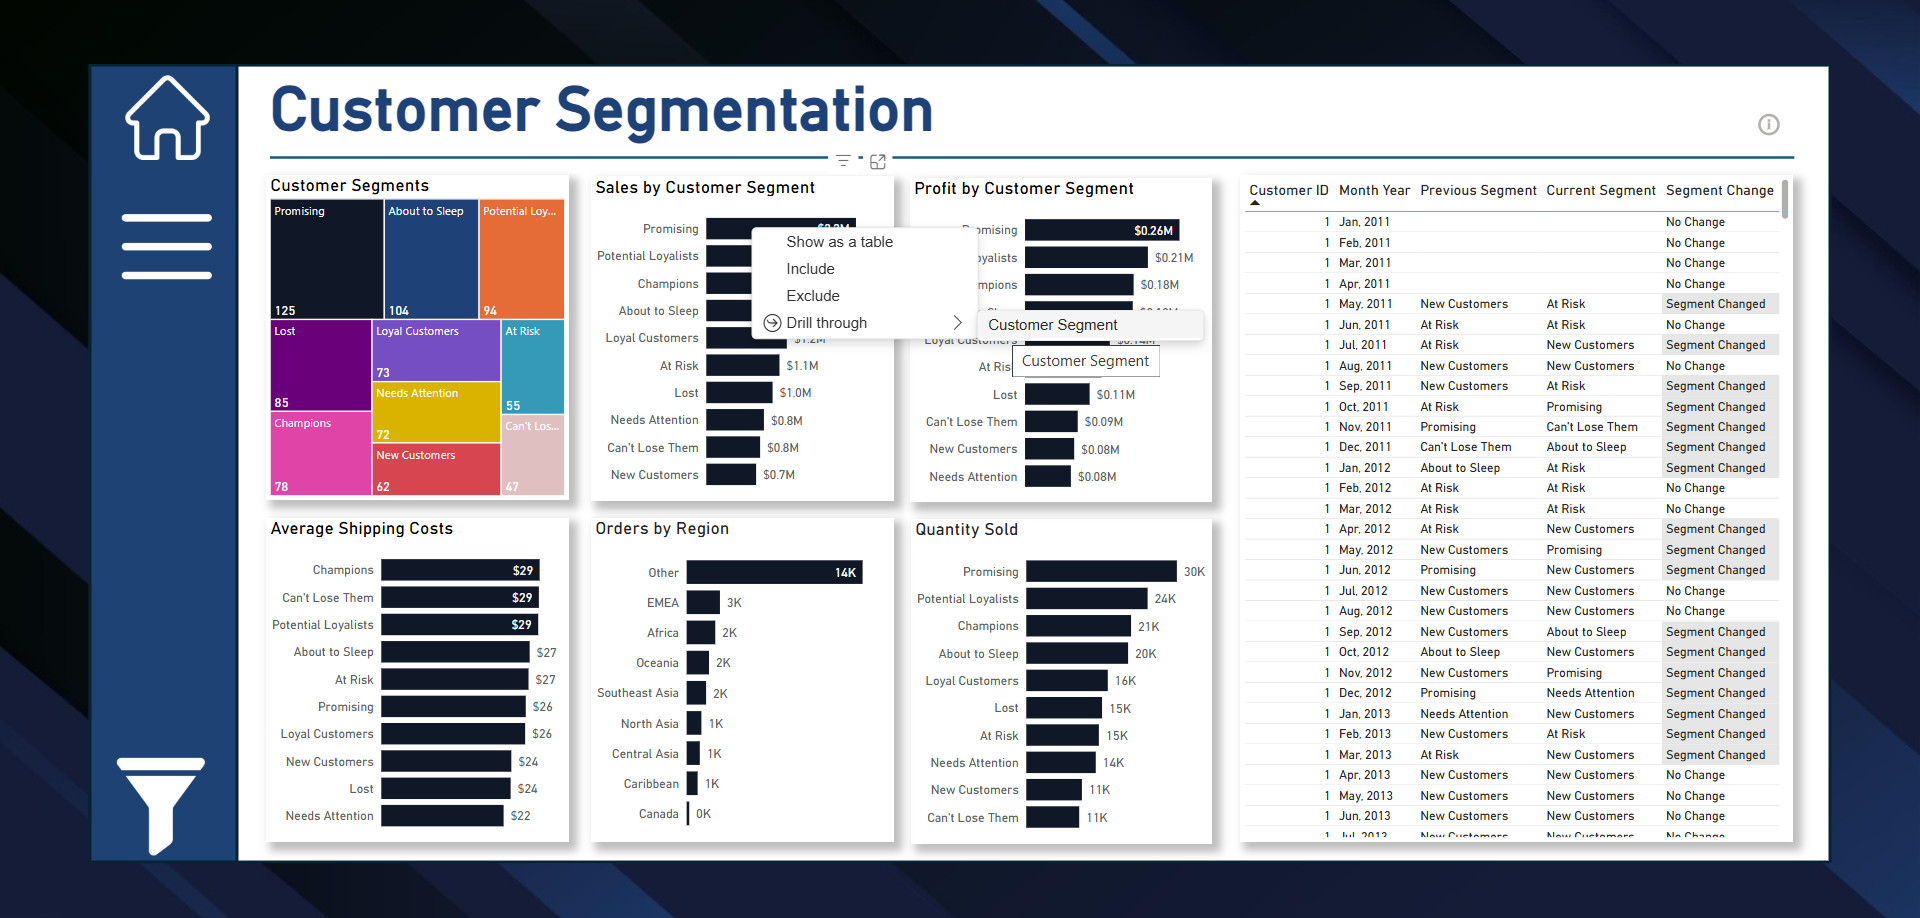

Layout of this report page (visuals, bound fields, positions):
{"tool":"powerbi","page":{"name":"Customer","canvas":[2250,1080],"ordinal":3},"visuals":[{"type":"barChart","fields":{"Category":["customer.Customer Segment"],"Y":["_Measures.Sales"]},"box":[692.8,207.2,354.6,380.4],"z":0},{"type":"barChart","title":"Orders by Region","fields":{"Category":["store.region"],"Y":["_Measures.Order Count"]},"box":[692.5,607.1,354.6,380.6],"z":1000},{"type":"treemap","title":"Customer Segments","fields":{"Values":["Count(customer.customer_id)"],"Group":["customer.Customer Segment"]},"box":[312,205,355,381],"z":2000},{"type":"barChart","fields":{"Category":["customer.Customer Segment"],"Y":["_Measures.Profit"]},"box":[1066.7,207.5,354.6,381],"z":3000},{"type":"barChart","title":"Quantity Sold","fields":{"Category":["customer.Customer Segment"],"Y":["_Measures.Quantity"]},"box":[1068.6,608.5,352.7,380.6],"z":4000},{"type":"barChart","title":"Average Shipping Costs","fields":{"Category":["customer.Customer Segment"],"Y":["_Measures.Avg Shipping Cost"]},"box":[312.4,606.2,354,380.4],"z":5000},{"type":"textbox","box":[312,81,827,97],"z":6000},{"type":"tableEx","fields":{"Values":["customer.customer_id","Date.Month Year Short","_Measures.PreviousSegment","_Measures.CurrentSegment","_Measures.SegmentChangeMeasure"]},"box":[1453.8,205.5,648.4,781.3],"z":7000},{"type":"actionButton","box":[2047.6,122.2,54.1,48.6],"z":8000},{"type":"image","box":[74.2,246.6,242.2,115.6],"z":9000},{"type":"image","box":[76.4,883.7,224.7,124.4],"z":10000},{"type":"image","box":[76.4,82.9,240,109.1],"z":11000}]}

Visuals, with their boxes on the page's 2250x1080 design canvas (x1, y1, x2, y2). These are canvas units, not pixel positions in the 1920x918 screenshot, which may show the page scaled, cropped or inside an application window:
barChart - customer.Customer Segment x _Measures.Sales: bbox=[693, 207, 1047, 588]
"Orders by Region" barChart: bbox=[692, 607, 1047, 988]
"Customer Segments" treemap: bbox=[312, 205, 667, 586]
barChart - customer.Customer Segment x _Measures.Profit: bbox=[1067, 208, 1421, 588]
"Quantity Sold" barChart: bbox=[1069, 608, 1421, 989]
"Average Shipping Costs" barChart: bbox=[312, 606, 666, 987]
textbox: bbox=[312, 81, 1139, 178]
tableEx - customer.customer_id x Date.Month Year Short: bbox=[1454, 206, 2102, 987]
actionButton: bbox=[2048, 122, 2102, 171]
image: bbox=[74, 247, 316, 362]
image: bbox=[76, 884, 301, 1008]
image: bbox=[76, 83, 316, 192]
